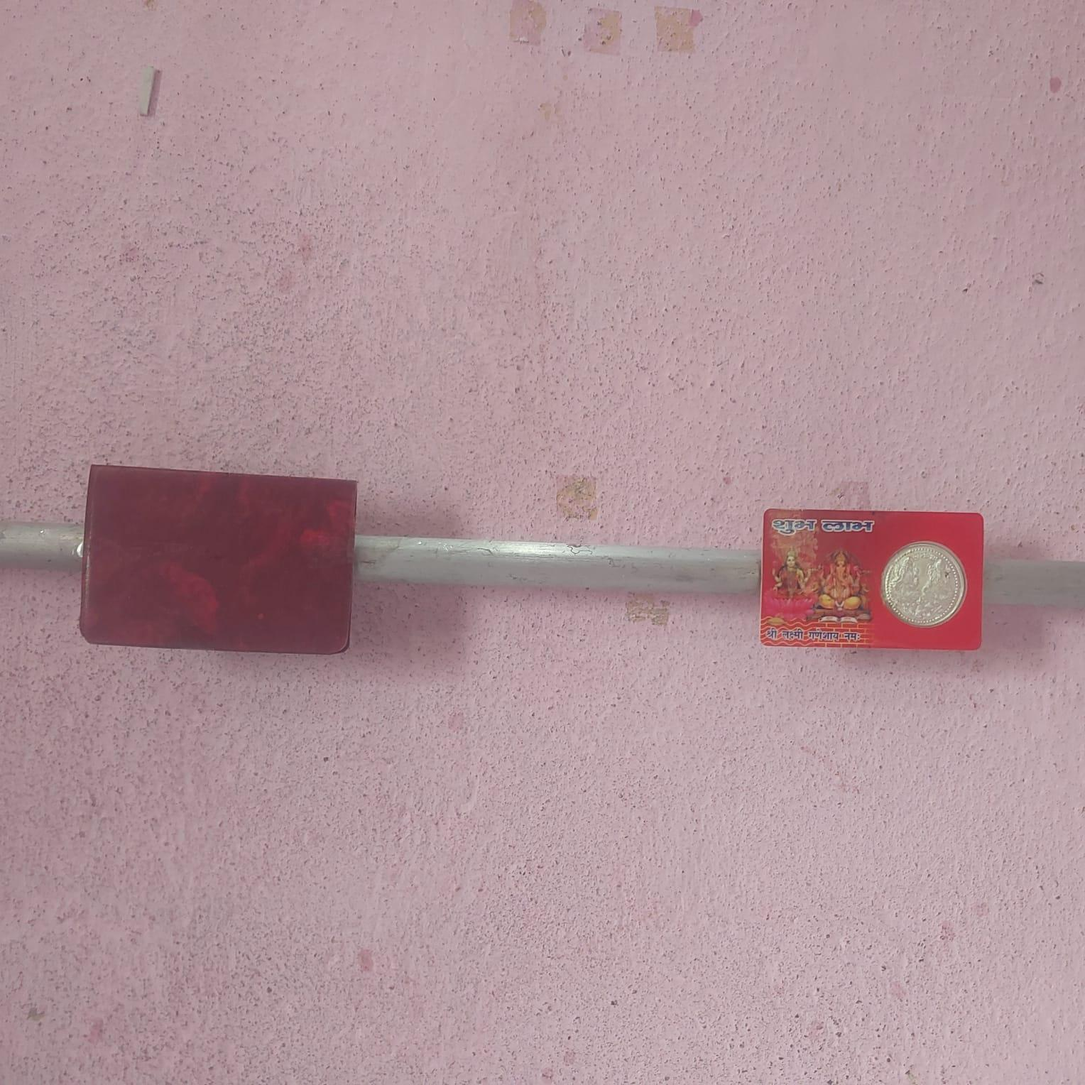wallet: (80, 461, 357, 656)
